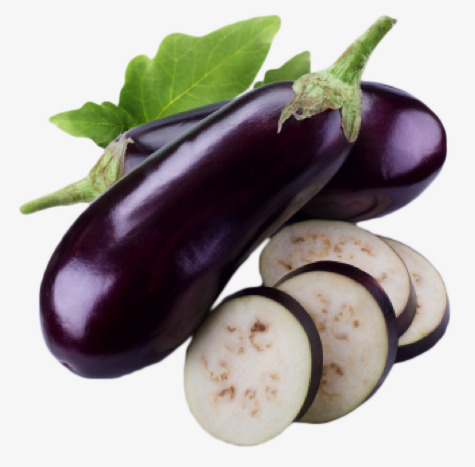fruit_eggplant: (27, 10, 399, 388)
